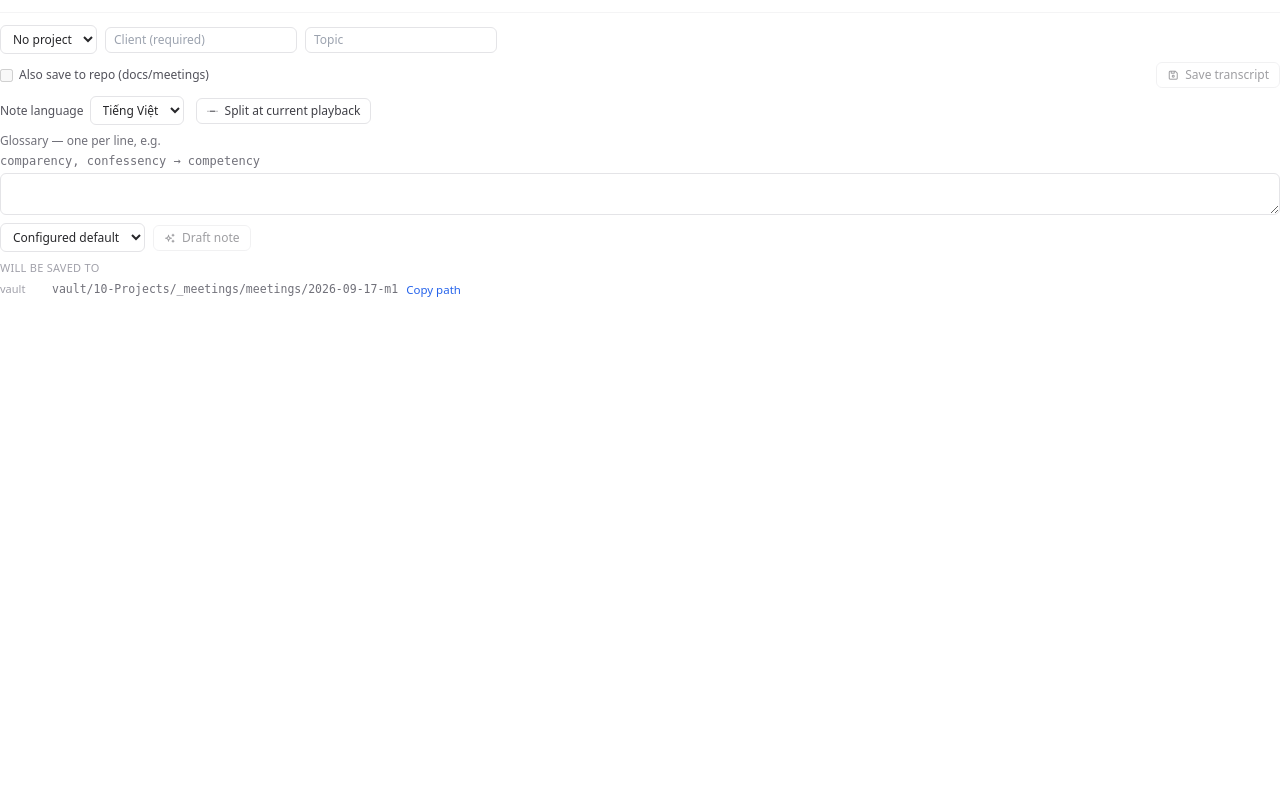
the note preview › closes on Escape and leaves the draft intact
Select "mantu" in the dropdown named "Project or workspace" at coordinates (48, 40), box top-left (0, 25), bottom-right (97, 54)
Type "Chị Kate" into the field labelled "Client" at coordinates (201, 40), box top-left (105, 26), bottom-right (297, 52)
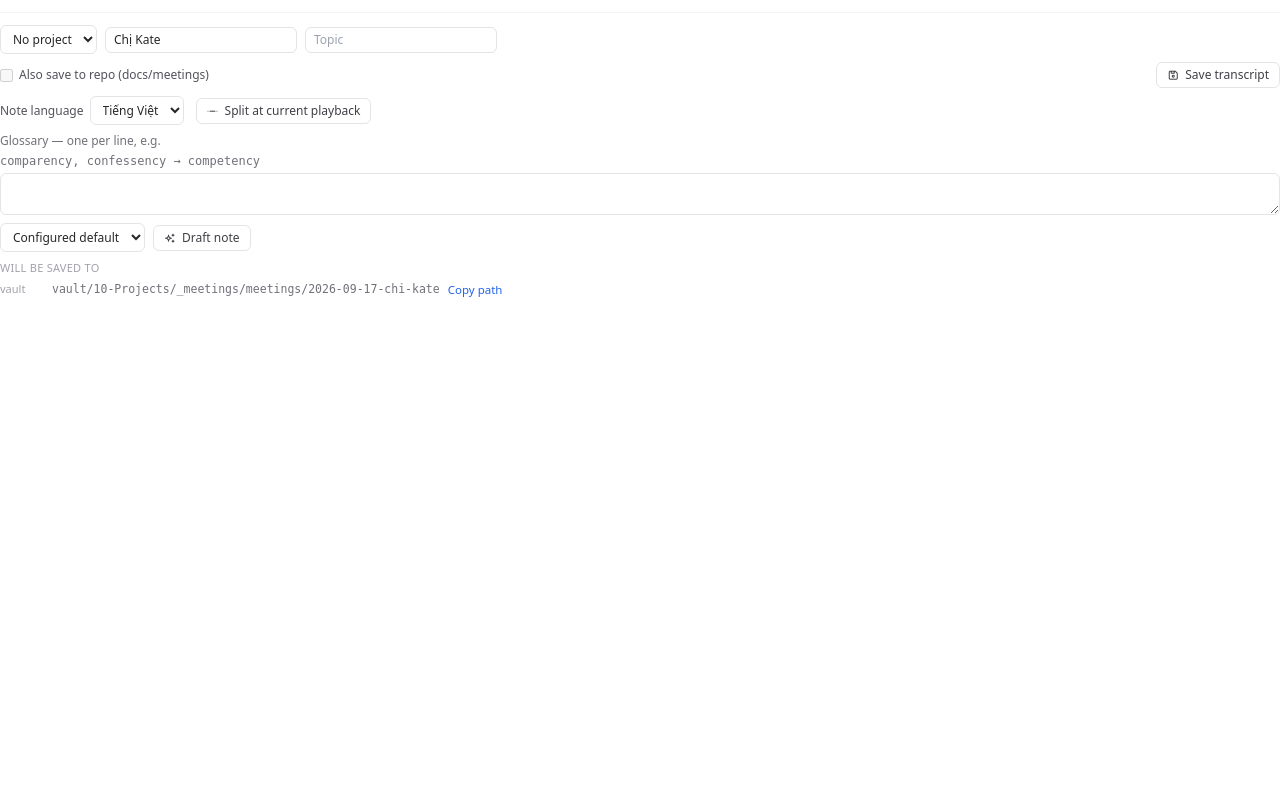
Click the button "Draft note" at coordinates (202, 238), box top-left (153, 224), bottom-right (251, 250)
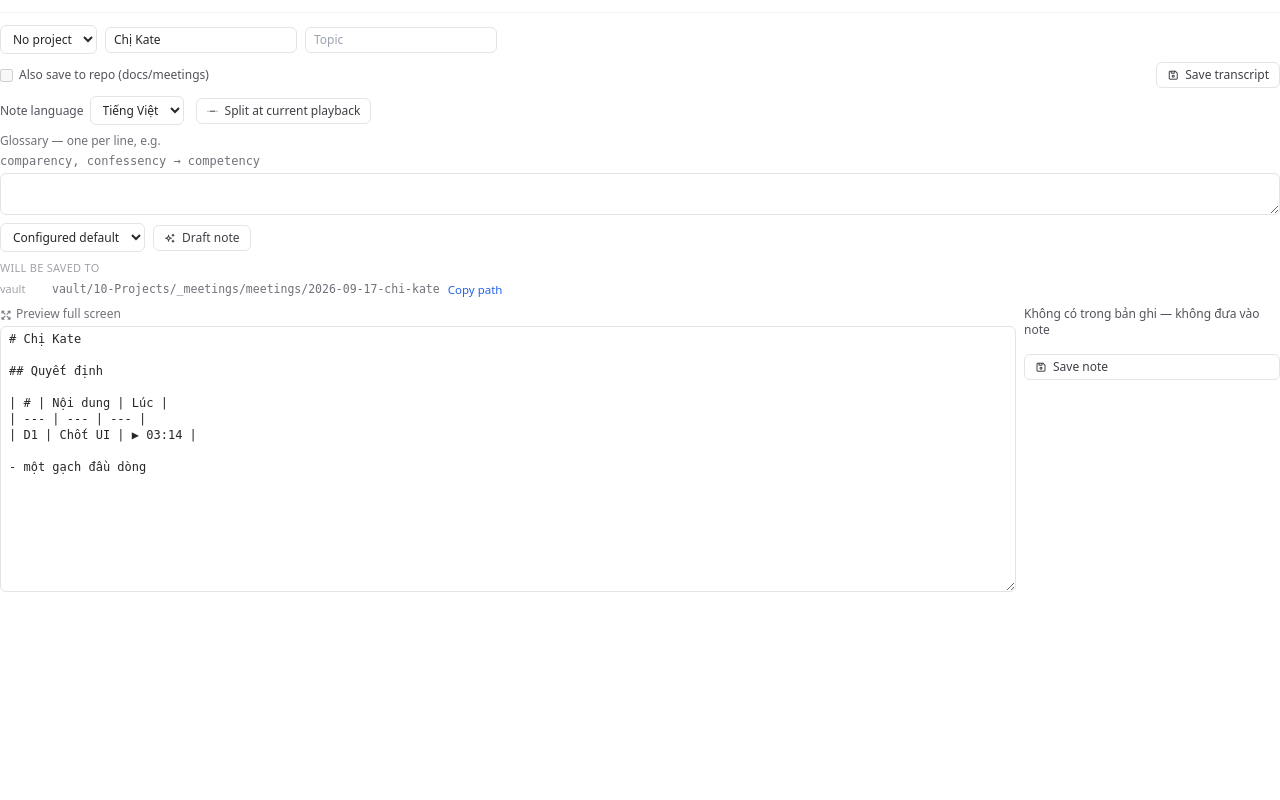
Click the button with test id "note-preview-open" at coordinates (60, 314), box top-left (0, 306), bottom-right (121, 322)
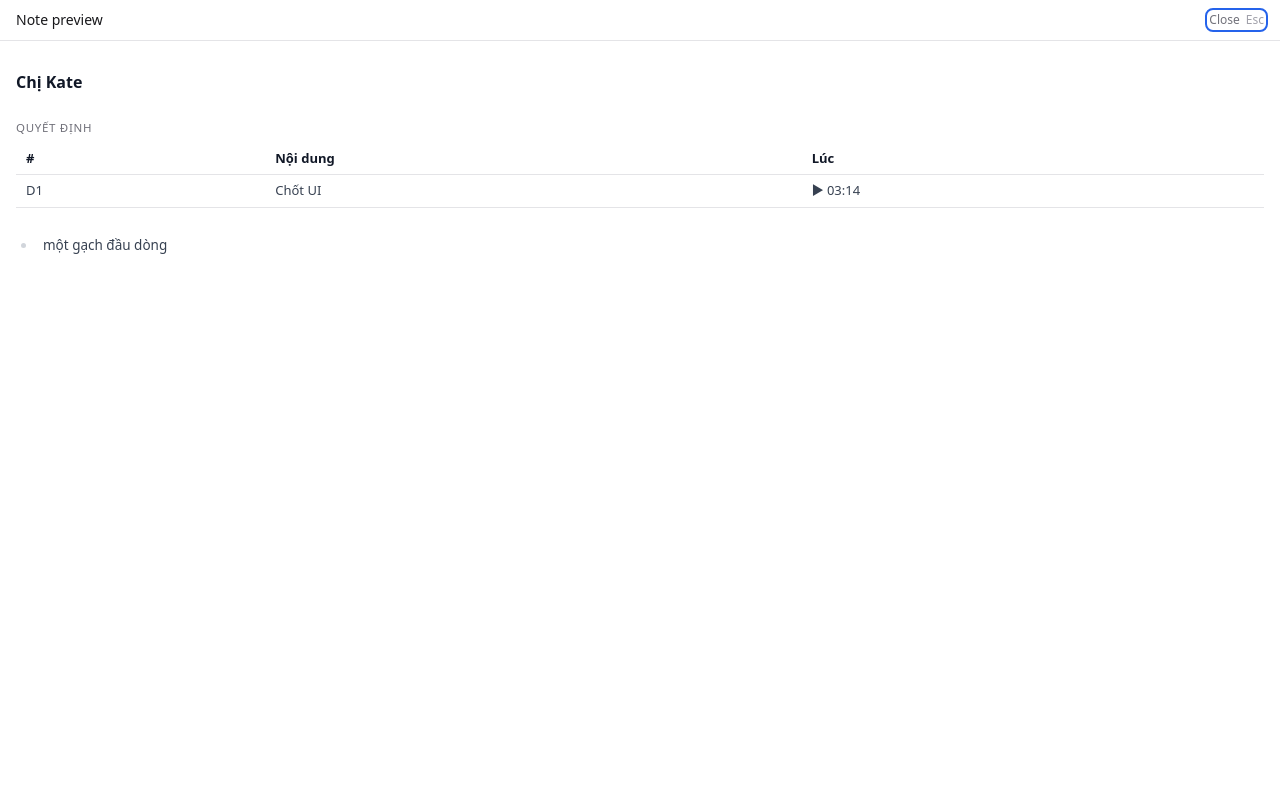
Expected: the dialog with test id "note-preview" is shown
Press Escape
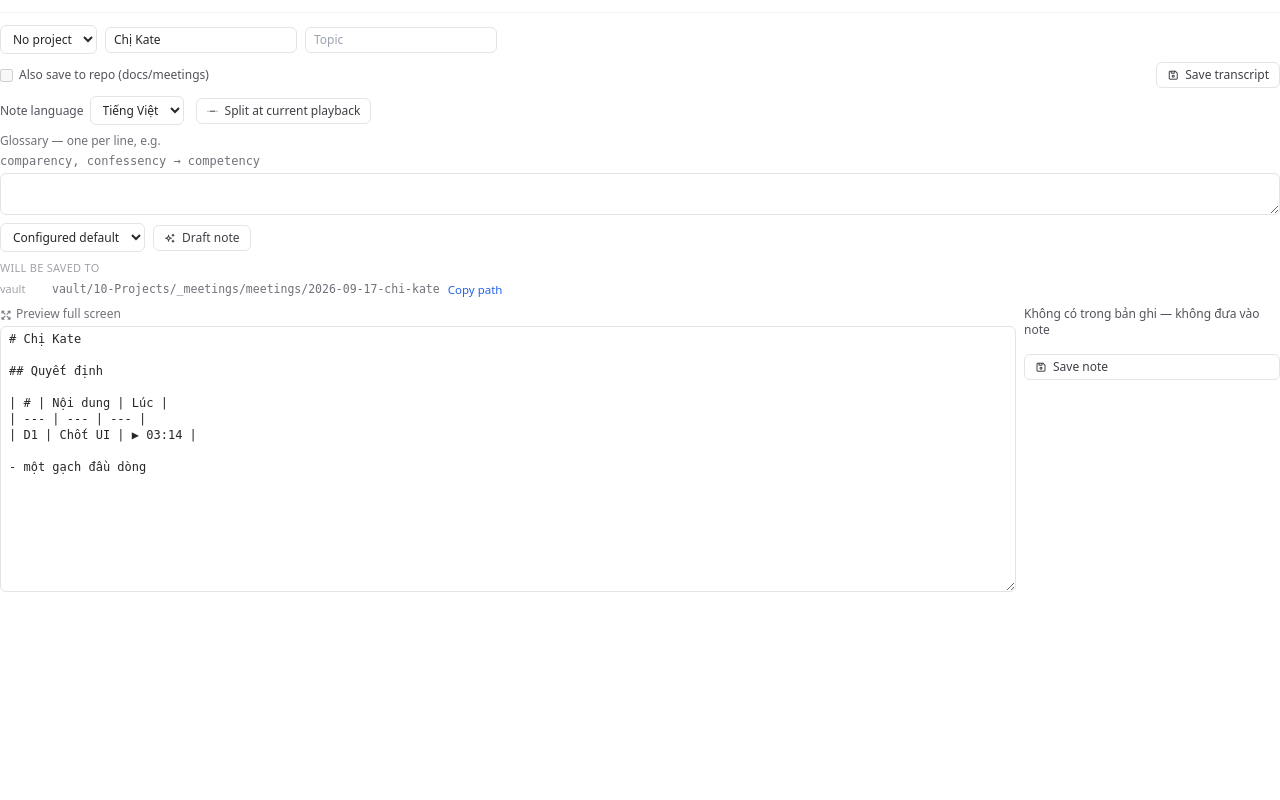
Expected: the dialog with test id "note-preview" is gone
